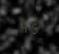five: (29, 20, 38, 34)
four: (19, 19, 28, 33)
